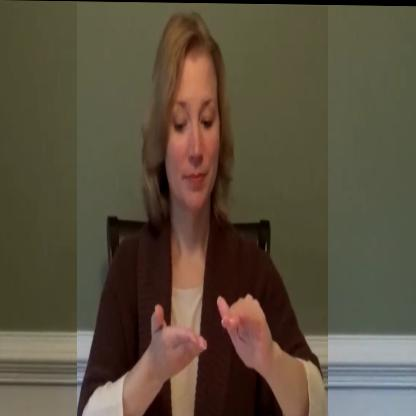ExcuseMe: (77, 2, 328, 416)
